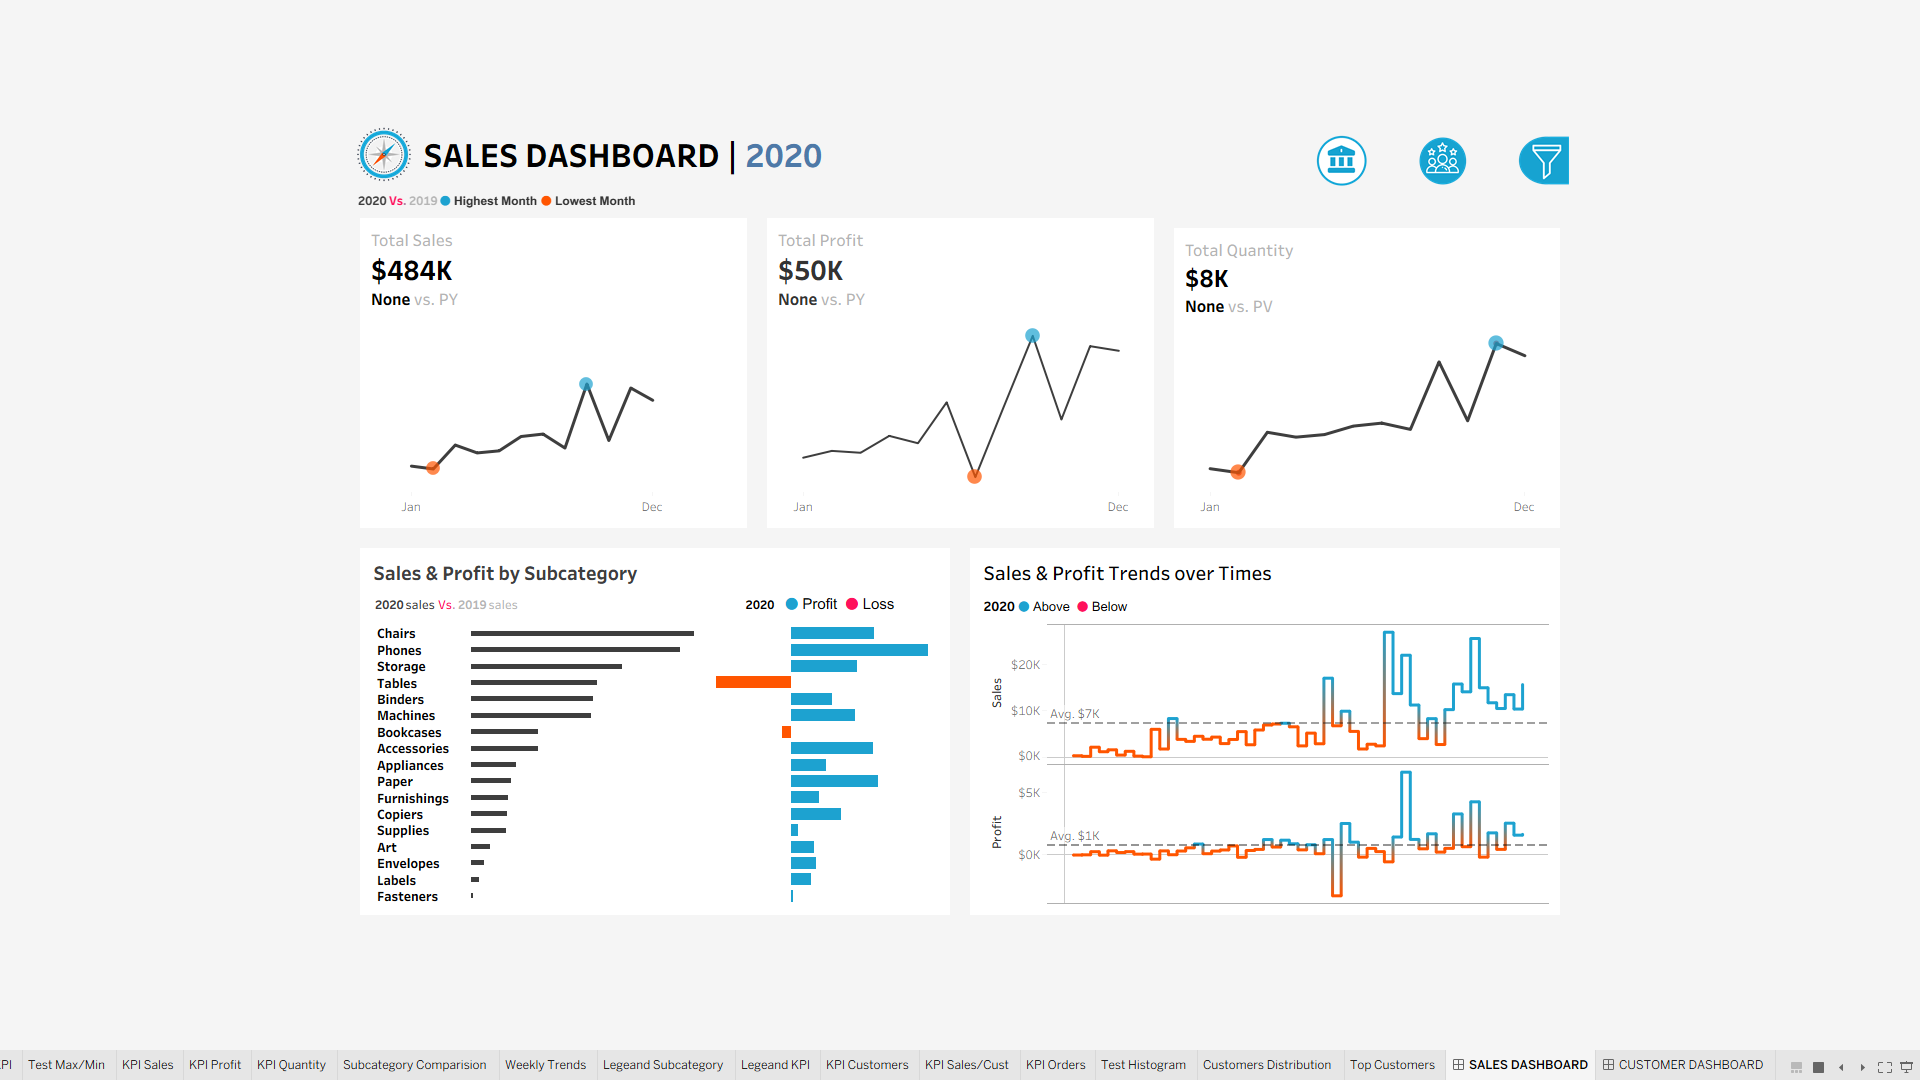

What the dashboard file says about the page in this screenshot:
{"tool":"tableau","page":{"name":"SALES DASHBOARD","canvas":[1220,800],"ordinal":1},"visuals":[{"type":"image","param":"Image/Icon - Logo.png","box":[0,0,67,59]},{"type":"text","box":[67,0,847,59]},{"type":"dashboard-object","box":[940,6,102,59]},{"type":"dashboard-object","box":[1042,6,101,59]},{"type":"blank","box":[965,10,243,72]},{"type":"worksheet","title":"Legeand KPI","mark":"Automatic","box":[0,59,1220,34]},{"type":"text","box":[965,82,243,34]},{"type":"worksheet","title":"KPI Sales","mark":"Line","rows":["Calculation_1193295202926601"],"cols":["Order Date"],"box":[0,93,407,320]},{"type":"worksheet","title":"KPI Profit","mark":"Automatic","rows":["min/max sales (copy)_1388183715536900"],"cols":["Order Date"],"box":[407,93,407,320]},{"type":"worksheet","title":"KPI Quantity","mark":"Line","rows":["min/max profit (copy)_1388183749439500"],"cols":["Order Date"],"box":[814,93,406,320]},{"type":"parameter","param":"[Parameters].[Parameter 1193295195852806]","box":[965,116,243,52]},{"type":"text","box":[965,168,243,29]},{"type":"filter","title":"KPI Sales","param":"[federated.1pjhcd91qhw5d313a3p4w0tm42kk].[none:Category:nk]","box":[965,197,243,52]},{"type":"filter","title":"KPI Sales","param":"[federated.1pjhcd91qhw5d313a3p4w0tm42kk].[none:Sub-Category:nk]","box":[965,249,243,52]},{"type":"blank","box":[965,301,243,55]},{"type":"text","box":[965,356,243,29]},{"type":"filter","title":"KPI Sales","param":"[federated.1pjhcd91qhw5d313a3p4w0tm42kk].[none:Region:nk]","box":[965,385,243,52]},{"type":"text","box":[17,430,576,34]},{"type":"text","box":[627,430,576,34]},{"type":"filter","title":"KPI Sales","param":"[federated.1pjhcd91qhw5d313a3p4w0tm42kk].[none:State:nk]","box":[965,437,243,52]},{"type":"worksheet","title":"Legeand Subcategory","mark":"Automatic","box":[17,464,372,32]},{"type":"text","box":[389,464,204,32]},{"type":"text","box":[627,464,576,31]},{"type":"filter","title":"KPI Sales","param":"[federated.1pjhcd91qhw5d313a3p4w0tm42kk].[none:City:nk]","box":[965,489,243,52]},{"type":"worksheet","title":"Weekly Trends","mark":"Automatic","rows":["Calculation_1193295193276417","Calculation_1388183709634560"],"cols":["Order Date"],"box":[627,495,576,288]},{"type":"worksheet","title":"Subcategory Comparision","mark":"Bar","rows":["Sub-Category","Calculation_1388183800803345"],"cols":["CY Sales (copy)_1193295194165252","Calculation_1193295193276417","Calculation_1388183709634560"],"box":[17,496,576,287]}]}

Visuals, with their boxes on the page's 1220x800 design canvas (x1, y1, x2, y2). These are canvas units, not pixel positions in the 1920x1080 screenshot, which may show the page scaled, cropped or inside an application window:
image: x1=0 y1=0 x2=67 y2=59
text: x1=67 y1=0 x2=914 y2=59
dashboard-object: x1=940 y1=6 x2=1042 y2=65
dashboard-object: x1=1042 y1=6 x2=1143 y2=65
blank: x1=965 y1=10 x2=1208 y2=82
"Legeand KPI" worksheet: x1=0 y1=59 x2=1220 y2=93
text: x1=965 y1=82 x2=1208 y2=116
"KPI Sales" worksheet (Line marks): x1=0 y1=93 x2=407 y2=413
"KPI Profit" worksheet: x1=407 y1=93 x2=814 y2=413
"KPI Quantity" worksheet (Line marks): x1=814 y1=93 x2=1220 y2=413
parameter: x1=965 y1=116 x2=1208 y2=168
text: x1=965 y1=168 x2=1208 y2=197
"KPI Sales" filter: x1=965 y1=197 x2=1208 y2=249
"KPI Sales" filter: x1=965 y1=249 x2=1208 y2=301
blank: x1=965 y1=301 x2=1208 y2=356
text: x1=965 y1=356 x2=1208 y2=385
"KPI Sales" filter: x1=965 y1=385 x2=1208 y2=437
text: x1=17 y1=430 x2=593 y2=464
text: x1=627 y1=430 x2=1203 y2=464
"KPI Sales" filter: x1=965 y1=437 x2=1208 y2=489
"Legeand Subcategory" worksheet: x1=17 y1=464 x2=389 y2=496
text: x1=389 y1=464 x2=593 y2=496
text: x1=627 y1=464 x2=1203 y2=495
"KPI Sales" filter: x1=965 y1=489 x2=1208 y2=541
"Weekly Trends" worksheet: x1=627 y1=495 x2=1203 y2=783
"Subcategory Comparision" worksheet (Bar marks): x1=17 y1=496 x2=593 y2=783
